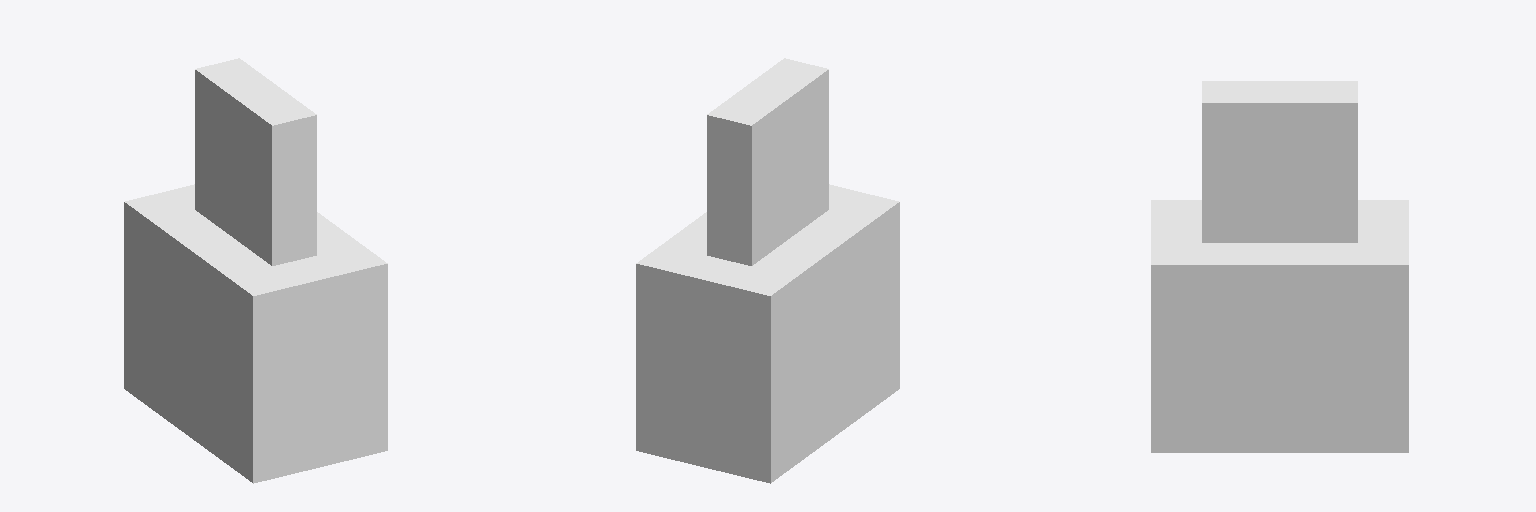
File: skeletonArm2.obj
3 views of the same model, side by side, from view 1: azimuth 30°, elevation 25°; view 2: azimuth 150°, elevation 25°; view 3: azimuth 270°, elevation 25° (orthographic).
Bounding box in the file's own units: 3 × 7 × 5.